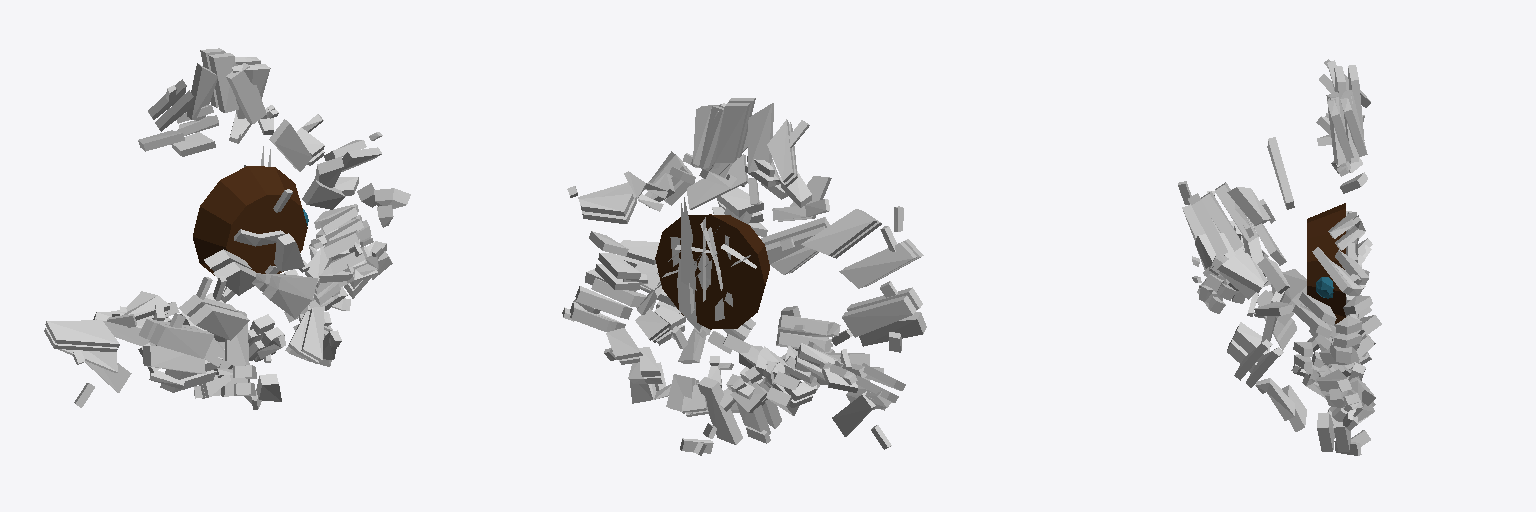
3 renders of one model, left to right at view 1: azimuth 30°, elevation 25°; view 2: azimuth 150°, elevation 25°; view 3: azimuth 270°, elevation 25°, orthographic.
Parts seen in each view (by area): view 1: Cone.001_Cone.001_cover, Cone_Cone_cover, Cylinder_Cylinder_Material.001; view 2: Cone_Cone_cover, Cone.001_Cone.001_cover, Cylinder_Cylinder_Material.001, Plane_Plane_Material.003; view 3: Cone_Cone_cover, Cone.001_Cone.001_cover, Cylinder_Cylinder_Material.001.
Boxes of the visible parts, box(x1,y1,x2,y2) form: Cone.001_Cone.001_cover: box(44, 48, 382, 407); Cone_Cone_cover: box(107, 156, 410, 409); Cylinder_Cylinder_Material.001: box(193, 166, 307, 275); Cone_Cone_cover: box(562, 151, 926, 455); Cone.001_Cone.001_cover: box(567, 98, 905, 449); Cylinder_Cylinder_Material.001: box(655, 214, 769, 329); Plane_Plane_Material.003: box(662, 197, 756, 331); Cone_Cone_cover: box(1182, 182, 1381, 455); Cone.001_Cone.001_cover: box(1178, 59, 1375, 406); Cylinder_Cylinder_Material.001: box(1307, 203, 1345, 323).
Size of the model in its own units: 3.42 by 3.53 by 1.79.
Materials: 4 (1 with a texture image).